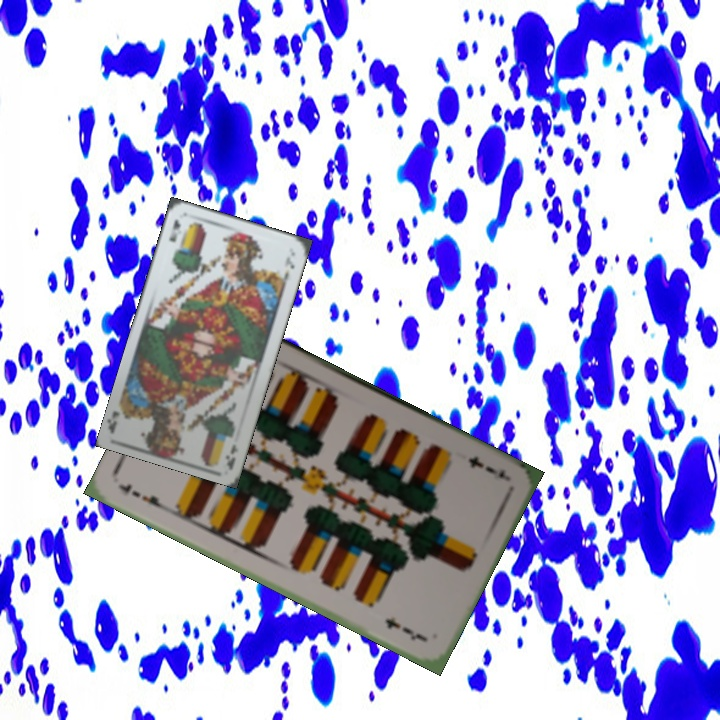E7: (115, 479, 171, 513), (463, 451, 512, 483)
EK: (222, 440, 241, 471), (165, 216, 183, 245)
